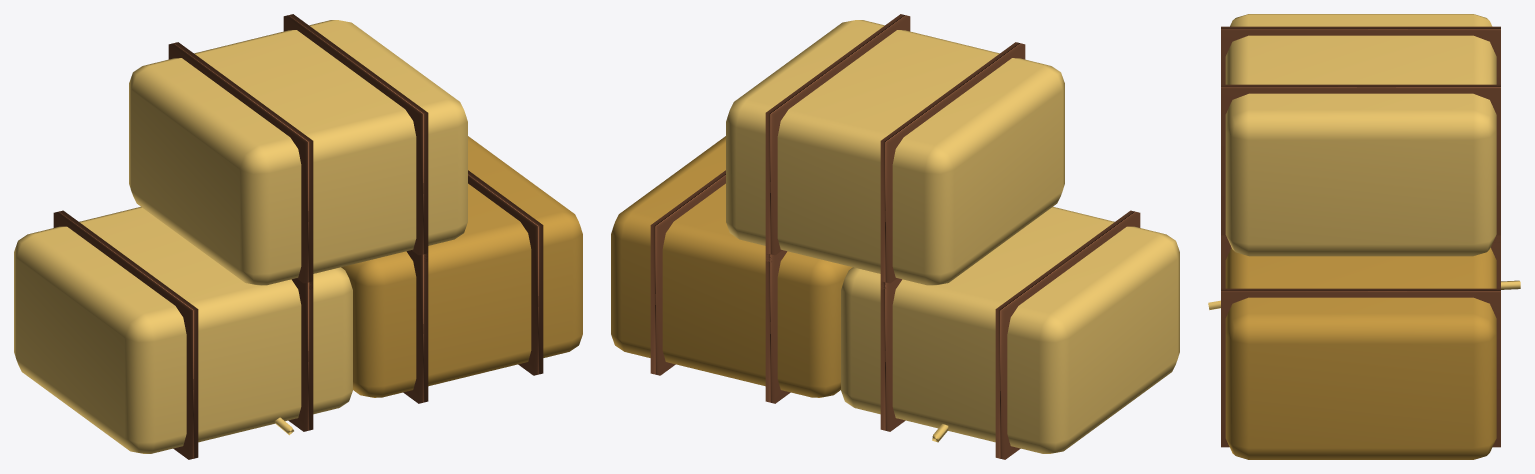
File: faire_hay.glb
3 renders of one model, left to right at view 1: azimuth 30°, elevation 25°; view 2: azimuth 150°, elevation 25°; view 3: azimuth 270°, elevation 25°, orthographic. The views are drawn at different scales.
Visible parts, largest first — view 1: Hay; view 2: Hay; view 3: Hay.
Part boxes in pixels (x1=…): Hay: x1=14, y1=14, x2=582, y2=459; Hay: x1=611, y1=14, x2=1179, y2=459; Hay: x1=1208, y1=14, x2=1520, y2=459.
Bounding box in the file's own units: 2.38 × 1.44 × 1.36.
